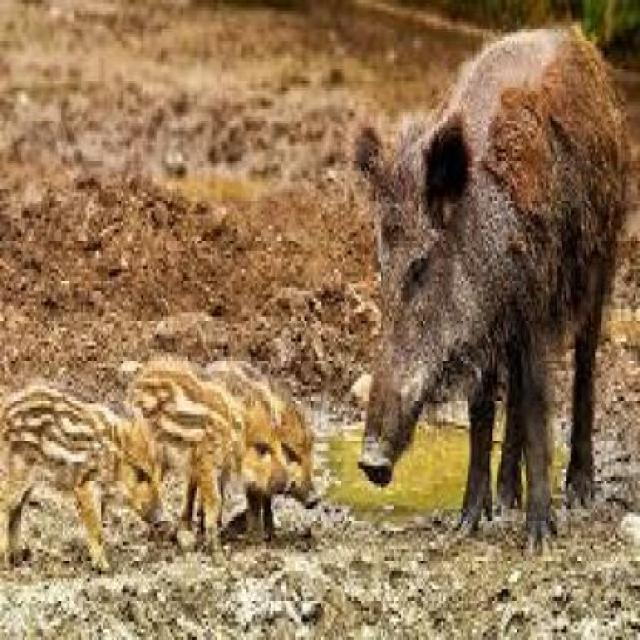wildboar: (349, 11, 631, 547), (1, 369, 172, 566), (125, 348, 290, 540), (210, 343, 324, 537)
